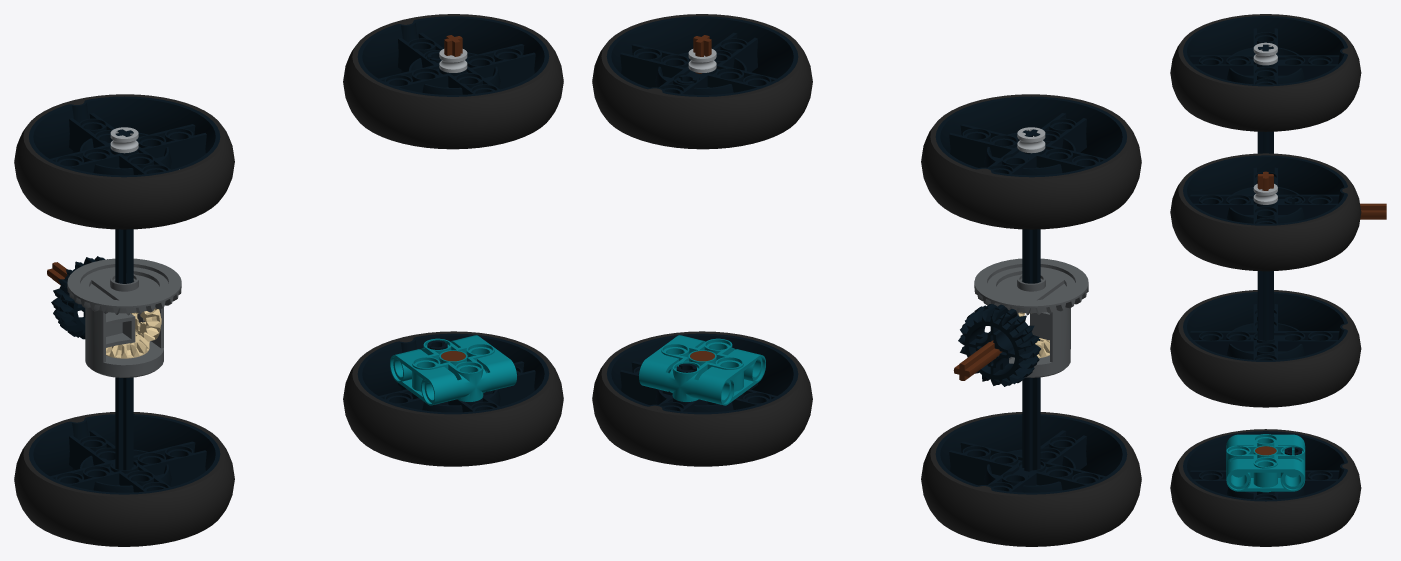
File: wheelbase_v1.dae
3 views of the same model, side by side, from view 1: azimuth 30°, elevation 25°; view 2: azimuth 150°, elevation 25°; view 3: azimuth 270°, elevation 25° (orthographic). The views are drawn at different scales.
Visible parts, largest first — view 1: Inner-Node-wheelbase__v1_dot_io-1, Inner-Node-wheelbase__v1_dot_io-3, Inner-Node-wheelbase__v1_dot_io-0, Inner-Node-wheelbase__v1_dot_io-2, Inner-Node-wheelbase__v1_dot_io-12, Inner-Node-wheelbase__v1_dot_io-4, Inner-Node-wheelbase__v1_dot_io-15, Inner-Node-wheelbase__v1_dot_io-21, Inner-Node-wheelbase__v1_dot_io-13, Inner-Node-wheelbase__v1_dot_io-19, Inner-Node-wheelbase__v1_dot_io-17; view 2: Inner-Node-wheelbase__v1_dot_io-1, Inner-Node-wheelbase__v1_dot_io-3, Inner-Node-wheelbase__v1_dot_io-0, Inner-Node-wheelbase__v1_dot_io-2, Inner-Node-wheelbase__v1_dot_io-12, Inner-Node-wheelbase__v1_dot_io-4, Inner-Node-wheelbase__v1_dot_io-21, Inner-Node-wheelbase__v1_dot_io-15, Inner-Node-wheelbase__v1_dot_io-13, Inner-Node-wheelbase__v1_dot_io-20; view 3: Inner-Node-wheelbase__v1_dot_io-1, Inner-Node-wheelbase__v1_dot_io-3, Inner-Node-wheelbase__v1_dot_io-0, Inner-Node-wheelbase__v1_dot_io-2, Inner-Node-wheelbase__v1_dot_io-4, Inner-Node-wheelbase__v1_dot_io-15, Inner-Node-wheelbase__v1_dot_io-13, Inner-Node-wheelbase__v1_dot_io-14, Inner-Node-wheelbase__v1_dot_io-20, Inner-Node-wheelbase__v1_dot_io-9, Inner-Node-wheelbase__v1_dot_io-8.
Part boxes in pixels (x1,y1,x2,y2): Inner-Node-wheelbase__v1_dot_io-1: [14, 94, 234, 229]; Inner-Node-wheelbase__v1_dot_io-3: [343, 14, 563, 149]; Inner-Node-wheelbase__v1_dot_io-0: [14, 412, 234, 546]; Inner-Node-wheelbase__v1_dot_io-2: [343, 331, 563, 466]; Inner-Node-wheelbase__v1_dot_io-12: [67, 258, 181, 377]; Inner-Node-wheelbase__v1_dot_io-4: [390, 335, 516, 405]; Inner-Node-wheelbase__v1_dot_io-15: [115, 377, 133, 470]; Inner-Node-wheelbase__v1_dot_io-21: [51, 256, 107, 339]; Inner-Node-wheelbase__v1_dot_io-13: [115, 129, 133, 283]; Inner-Node-wheelbase__v1_dot_io-19: [130, 308, 161, 341]; Inner-Node-wheelbase__v1_dot_io-17: [106, 331, 149, 358]; Inner-Node-wheelbase__v1_dot_io-1: [921, 94, 1141, 229]; Inner-Node-wheelbase__v1_dot_io-3: [592, 14, 812, 149]; Inner-Node-wheelbase__v1_dot_io-0: [921, 412, 1141, 546]; Inner-Node-wheelbase__v1_dot_io-2: [592, 331, 812, 466]; Inner-Node-wheelbase__v1_dot_io-12: [974, 258, 1088, 377]; Inner-Node-wheelbase__v1_dot_io-4: [639, 335, 765, 405]; Inner-Node-wheelbase__v1_dot_io-21: [958, 304, 1040, 386]; Inner-Node-wheelbase__v1_dot_io-15: [1022, 339, 1040, 471]; Inner-Node-wheelbase__v1_dot_io-13: [1022, 129, 1040, 283]; Inner-Node-wheelbase__v1_dot_io-20: [953, 340, 1002, 380]; Inner-Node-wheelbase__v1_dot_io-1: [1170, 14, 1361, 131]; Inner-Node-wheelbase__v1_dot_io-3: [1170, 153, 1361, 271]; Inner-Node-wheelbase__v1_dot_io-0: [1170, 290, 1361, 407]; Inner-Node-wheelbase__v1_dot_io-2: [1170, 429, 1361, 546]; Inner-Node-wheelbase__v1_dot_io-4: [1226, 434, 1305, 492]; Inner-Node-wheelbase__v1_dot_io-15: [1257, 271, 1273, 340]; Inner-Node-wheelbase__v1_dot_io-13: [1257, 44, 1273, 153]; Inner-Node-wheelbase__v1_dot_io-14: [1253, 42, 1277, 65]; Inner-Node-wheelbase__v1_dot_io-20: [1360, 203, 1386, 219]; Inner-Node-wheelbase__v1_dot_io-9: [1253, 184, 1277, 204]; Inner-Node-wheelbase__v1_dot_io-8: [1257, 171, 1273, 190].
Bounding box in the file's own units: 380 × 281 × 157.
